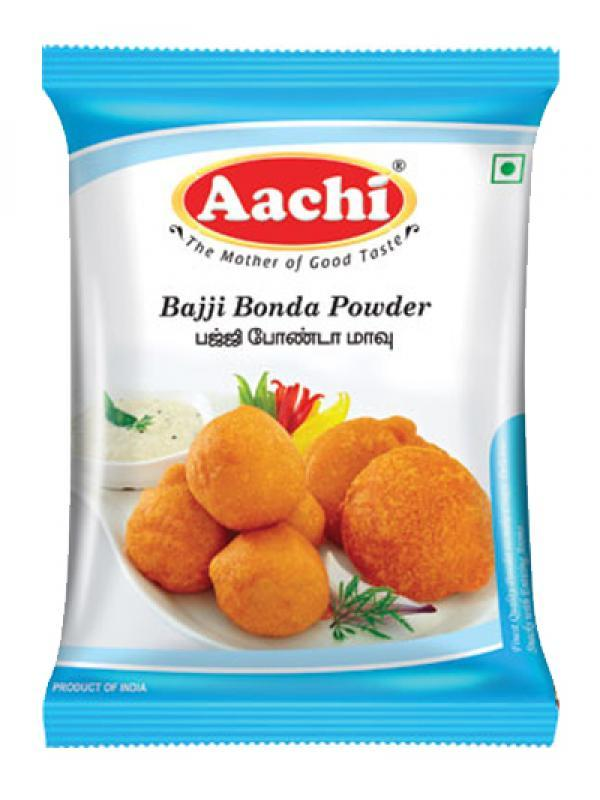VEG: (490, 151, 526, 187)
